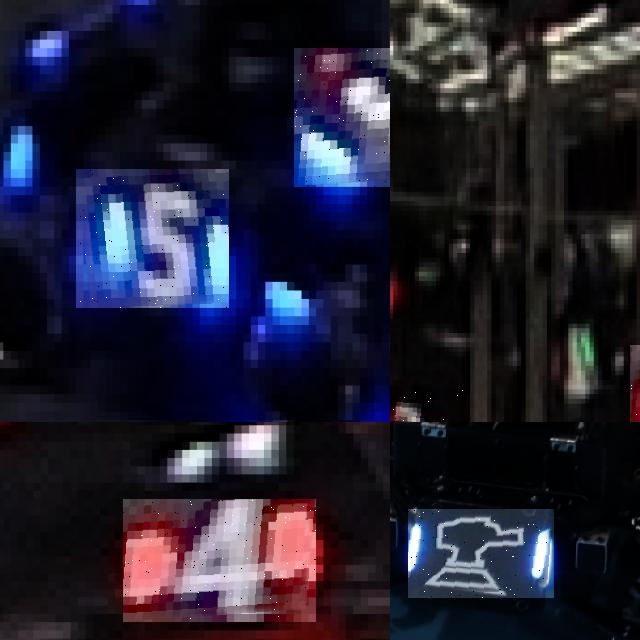B5: (76, 169, 229, 308), (294, 48, 390, 186)
Bs: (408, 509, 554, 598)
R2: (390, 387, 466, 422)
R4: (123, 499, 316, 622)
